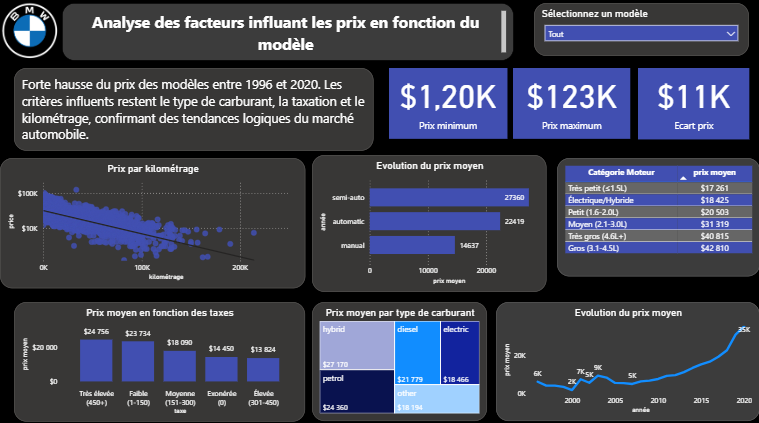

The page's visual inventory and layout, read from the dashboard file:
{"tool":"powerbi","page":{"name":"Facteurs prix","canvas":[1280,720],"ordinal":1},"visuals":[{"type":"tableEx","fields":{"Values":["bmw.Catégorie Moteur","bmw.prixmoy"]},"box":[938.6,270,341.4,198.6],"z":0},{"type":"textbox","box":[107.1,10,758.6,97.1],"z":1000},{"type":"cardVisual","fields":{"Data":["Min(bmw.price)"]},"box":[657.1,120,198.6,118.6],"z":2000},{"type":"cardVisual","fields":{"Data":["Max(bmw.price)"]},"box":[865.7,120,197.1,118.6],"z":3000},{"type":"cardVisual","fields":{"Data":["Sum(bmw.price)"]},"box":[1074.3,120,187.1,120],"z":4000},{"type":"scatterChart","title":"Prix par kilométrage","fields":{"Y":["bmw.price"],"X":["bmw.mileage"]},"box":[2.9,270,512.9,218.6],"z":5000},{"type":"barChart","title":"Evolution du prix moyen","fields":{"Y":["bmw.prix moyen"],"Category":["bmw.transmission"]},"box":[527.1,265.7,394.3,230],"z":6000},{"type":"treemap","title":"Prix moyen par type de carburant","fields":{"Group":["bmw.fuelType"],"Values":["bmw.prixmoy"]},"box":[527.1,512.9,294.3,200],"z":7000},{"type":"columnChart","title":"Prix moyen en fonction des taxes","fields":{"Category":["bmw.Catégorie Taxe"],"Y":["bmw.prixmoy"]},"box":[27.1,512.9,488.6,201.4],"z":8000},{"type":"textbox","box":[27.1,120,604.3,138.6],"z":9000},{"type":"slicer","title":"Sélectionnez un modèle","fields":{"Values":["bmw.model"]},"box":[900,10,361.4,88.6],"z":10000},{"type":"lineChart","title":"Evolution du prix moyen","fields":{"Category":["bmw.year"],"Y":["bmw.prix moyen"]},"box":[837.1,512.9,442.9,200],"z":11000},{"type":"image","box":[0,0,107.1,111.4],"z":12000}]}

Visuals, with their boxes in screenshot pixels (x1, y1, x2, y2), scaled from the page's 1280x720 canvas onto the 759x423 screenshot:
tableEx - bmw.Catégorie Moteur x bmw.prixmoy: BBox(557, 159, 758, 275)
textbox: BBox(64, 6, 513, 63)
cardVisual - Min(bmw.price): BBox(390, 70, 507, 140)
cardVisual - Max(bmw.price): BBox(513, 70, 630, 140)
cardVisual - Sum(bmw.price): BBox(637, 70, 748, 141)
"Prix par kilométrage" scatterChart: BBox(2, 159, 306, 287)
"Evolution du prix moyen" barChart: BBox(313, 156, 546, 291)
"Prix moyen par type de carburant" treemap: BBox(313, 301, 487, 419)
"Prix moyen en fonction des taxes" columnChart: BBox(16, 301, 306, 420)
textbox: BBox(16, 70, 374, 152)
"Sélectionnez un modèle" slicer: BBox(534, 6, 748, 58)
"Evolution du prix moyen" lineChart: BBox(496, 301, 758, 419)
image: BBox(0, 0, 64, 65)
